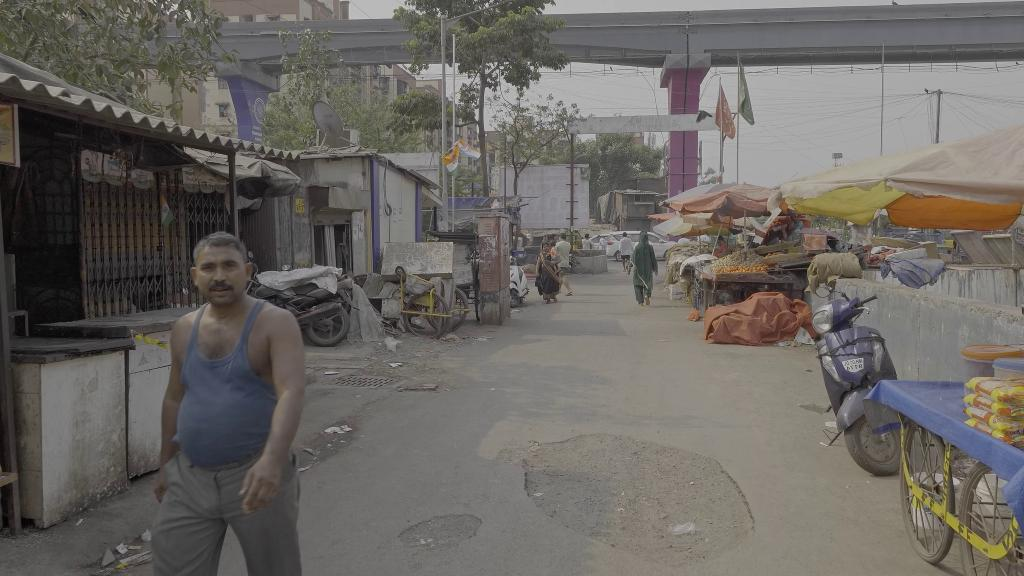garbage: (666, 521, 698, 540), (382, 331, 401, 355)
